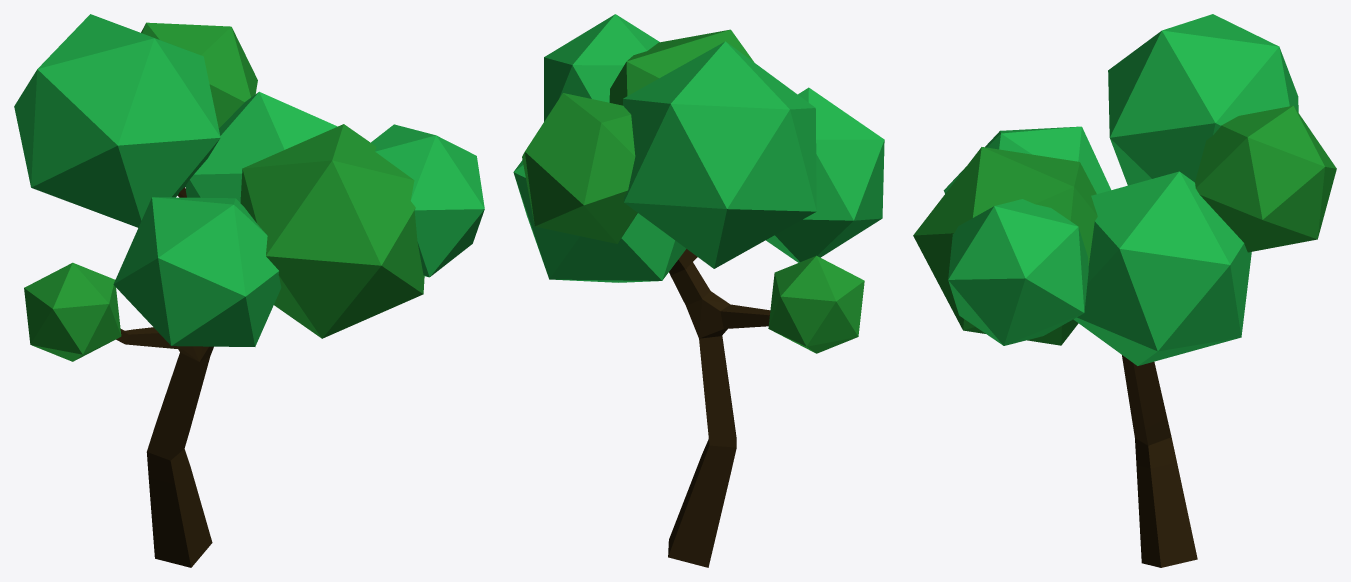
The model's file is Tree1.fbx.
3 views of the same model, side by side, from view 1: azimuth 30°, elevation 25°; view 2: azimuth 150°, elevation 25°; view 3: azimuth 270°, elevation 25° (orthographic).
Visible parts, largest first — view 1: Icosphere.004, Icosphere.005, Cube; view 2: Icosphere.004, Icosphere.005, Cube; view 3: Icosphere.004, Icosphere.005, Cube.
Boxes of the visible parts, <box> form: Icosphere.004: <box>14,14,484,346</box>; Icosphere.005: <box>24,22,424,361</box>; Cube: <box>116,187,213,567</box>; Icosphere.004: <box>513,14,884,282</box>; Icosphere.005: <box>522,29,864,353</box>; Cube: <box>668,249,770,567</box>; Icosphere.004: <box>943,14,1298,365</box>; Icosphere.005: <box>913,105,1336,345</box>; Cube: <box>1122,355,1197,567</box>.
Size of the model in its own units: 519 by 686 by 507.
